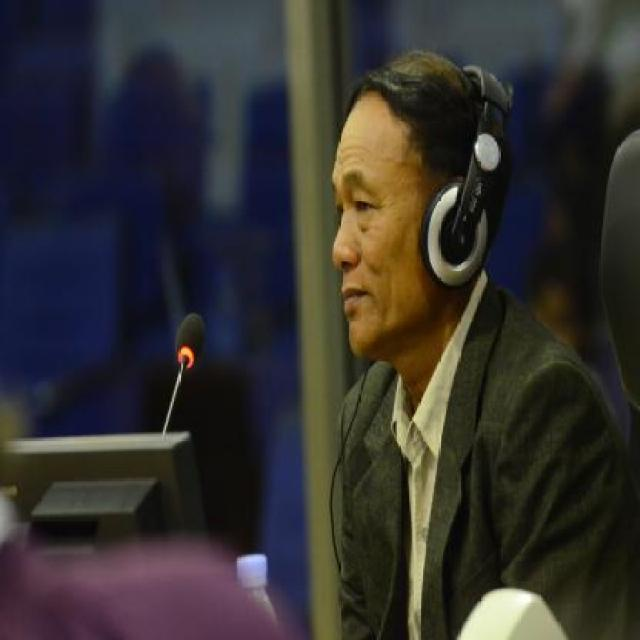earphone: (435, 59, 554, 345)
